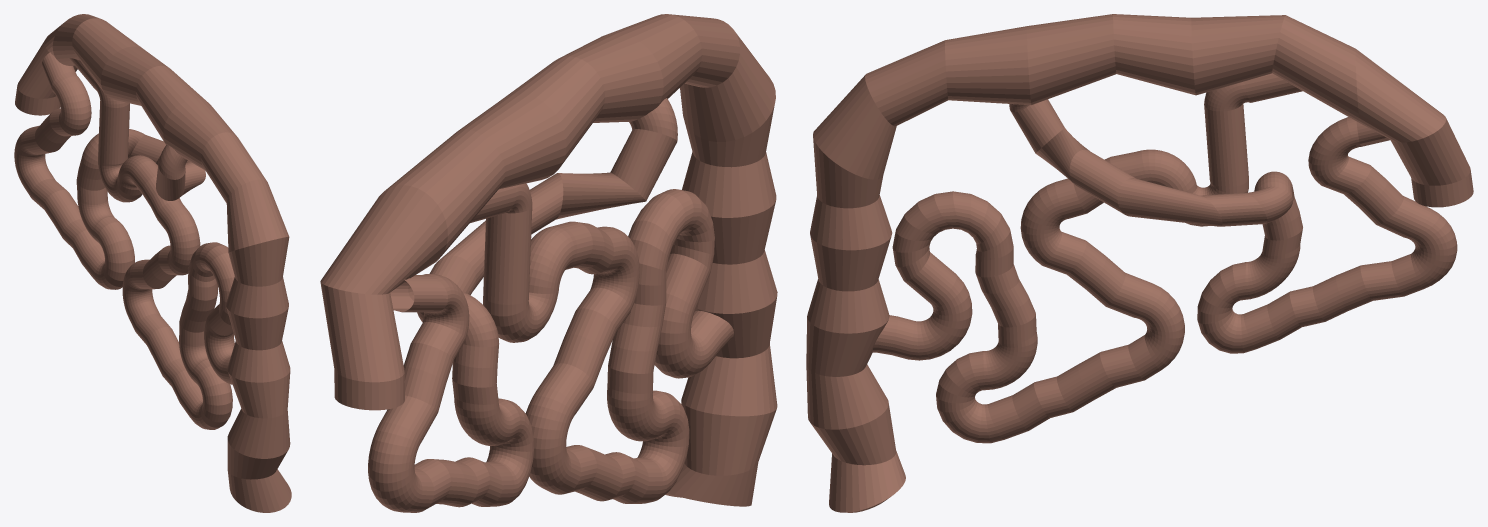
Rendered from Intestine.fbx.
The picture shows the model from 3 angles, left to right: view 1: azimuth 30°, elevation 25°; view 2: azimuth 150°, elevation 25°; view 3: azimuth 270°, elevation 25°; orthographic projection. The views are drawn at different scales.
Visible parts, largest first — view 1: Cylinder, Cylinder.001, Cylinder.002; view 2: Cylinder, Cylinder.001, Cylinder.002; view 3: Cylinder, Cylinder.001, Cylinder.002.
Part boxes in pixels (x1,y1,x2,y2): Cylinder: [15, 14, 291, 512]; Cylinder.001: [69, 58, 234, 429]; Cylinder.002: [14, 52, 205, 289]; Cylinder: [320, 14, 777, 506]; Cylinder.001: [470, 183, 733, 503]; Cylinder.002: [368, 98, 677, 512]; Cylinder: [806, 14, 1473, 512]; Cylinder.001: [872, 73, 1302, 443]; Cylinder.002: [1009, 99, 1457, 353].
Bounding box in the file's own units: 21.19 × 88.02 × 111.
Materials: 1 (1 with a texture image).
